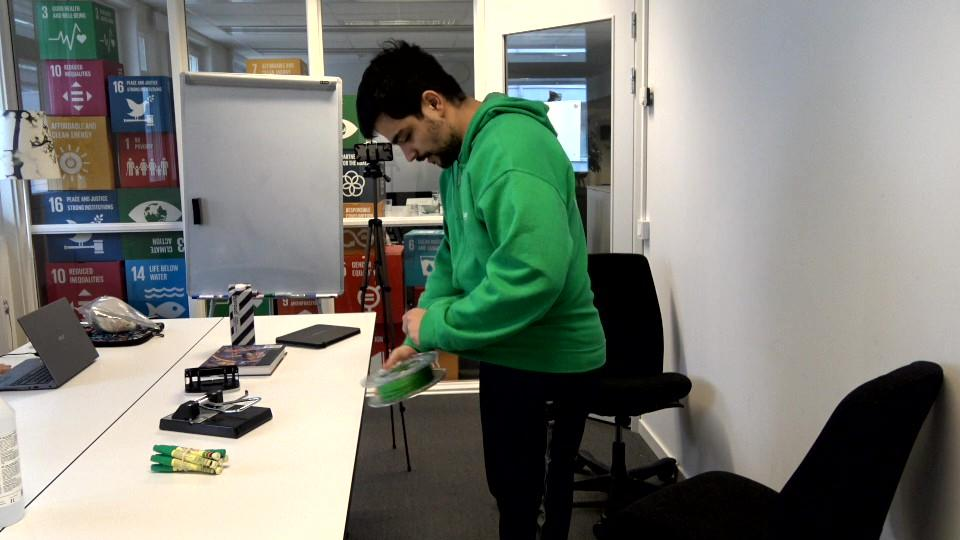shoplifting: (361, 46, 606, 540)
